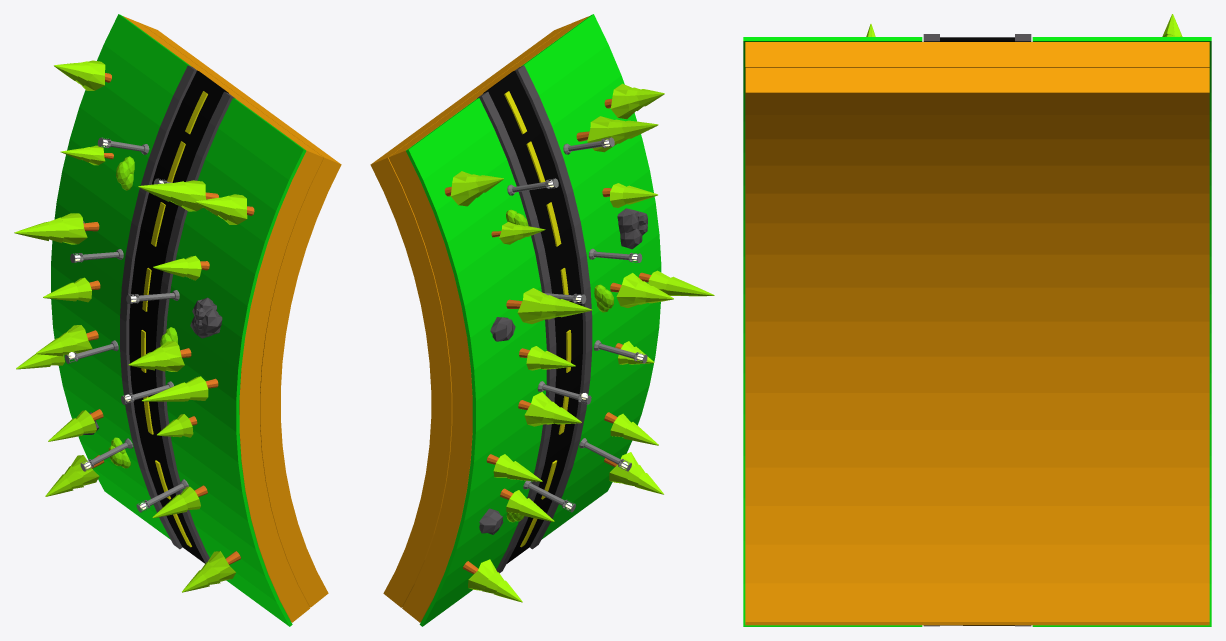
The model's file is landscape_v5_opt.glb.
3 views of the same model, side by side, from view 1: azimuth 30°, elevation 25°; view 2: azimuth 150°, elevation 25°; view 3: azimuth 270°, elevation 25° (orthographic). The views are drawn at different scales.
Visible parts, largest first — view 1: object 2, Cube.002_Material.001_0; view 2: object 2, Cube.002_Material.001_0; view 3: object 2, Cube.002_Material.001_0.
Boxes of the visible parts, x1=… form: object 2: x1=14, y1=16, x2=341, y2=622; Cube.002_Material.001_0: x1=51, y1=14, x2=306, y2=626; object 2: x1=370, y1=16, x2=714, y2=622; Cube.002_Material.001_0: x1=406, y1=14, x2=661, y2=626; object 2: x1=745, y1=14, x2=1209, y2=626; Cube.002_Material.001_0: x1=743, y1=37, x2=1211, y2=626.
Size of the model in its own units: 23.69 by 59.04 by 41.66.
